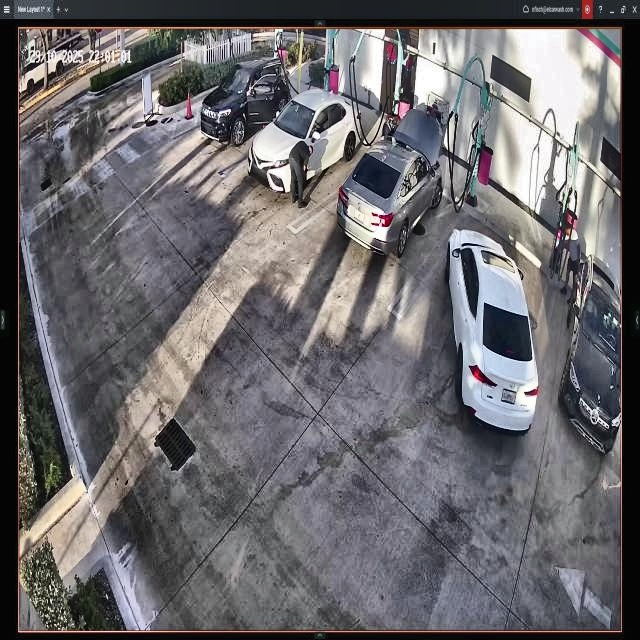Car: (448, 228, 537, 432), (339, 115, 440, 257), (252, 86, 362, 190), (201, 62, 289, 142)
